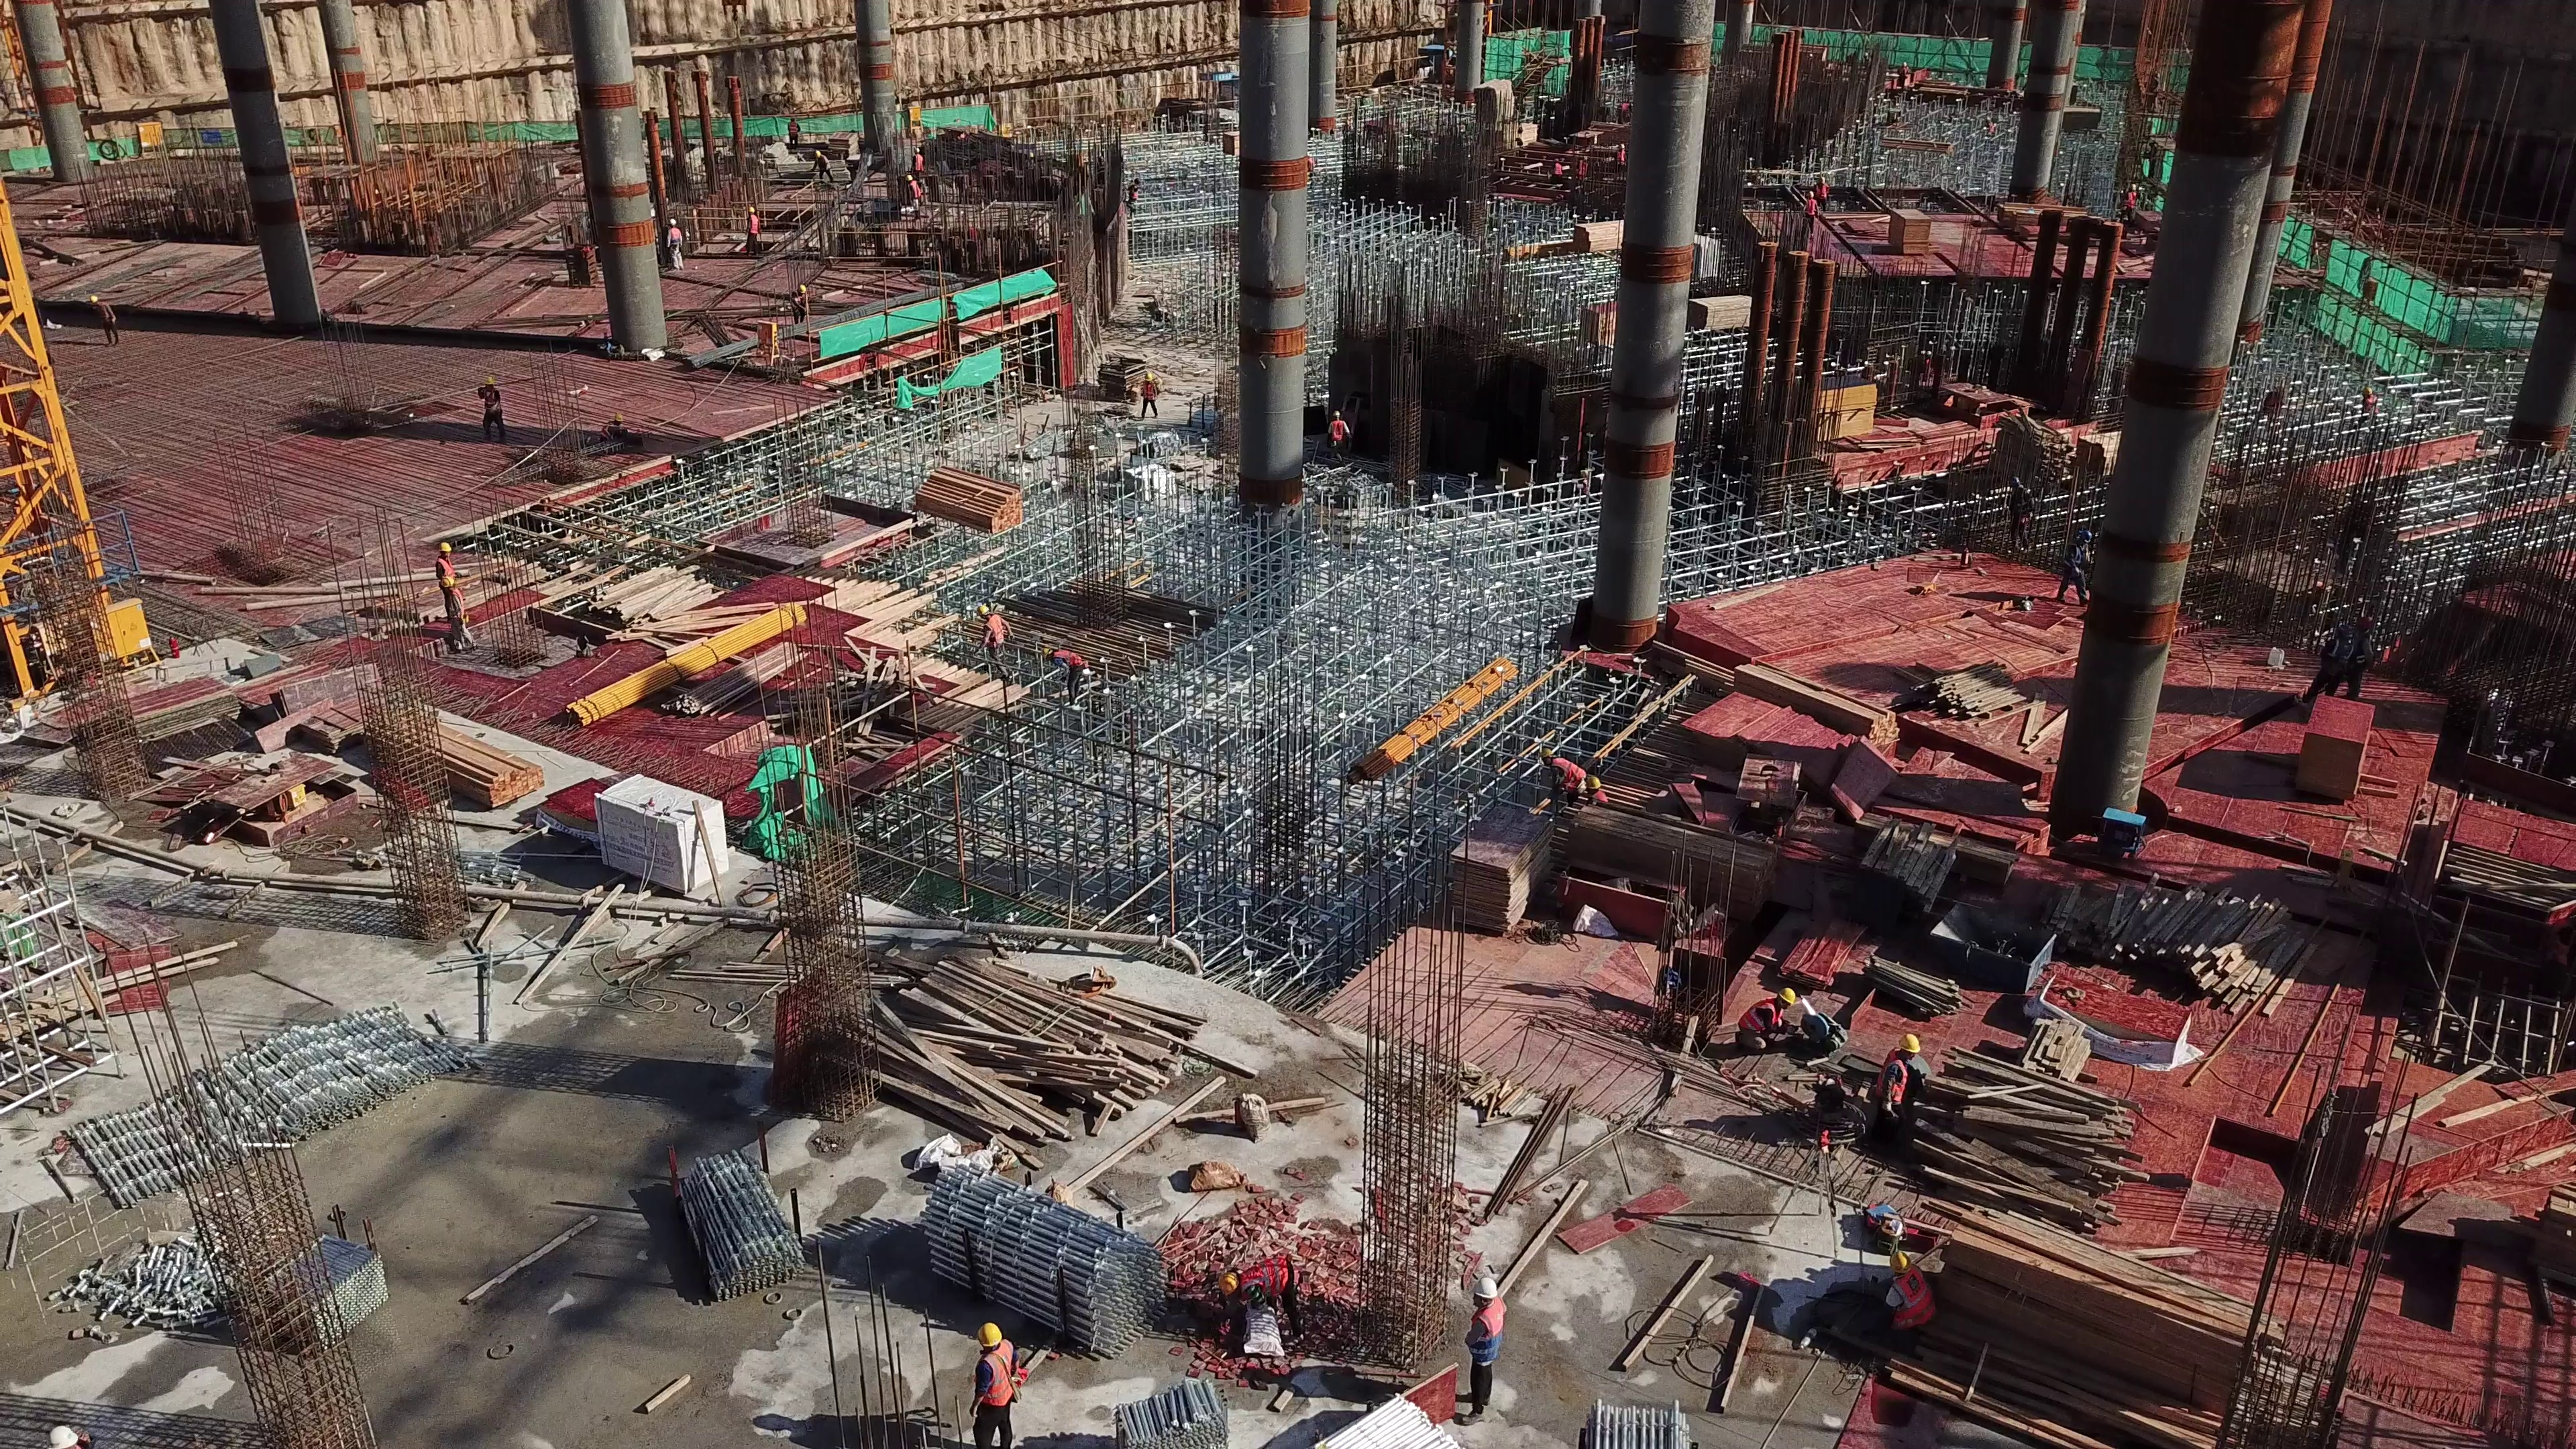board: (1458, 794, 1548, 943), (2287, 689, 2369, 810), (107, 665, 233, 735), (1579, 294, 1616, 354), (1892, 208, 1927, 262)
cutter: (1796, 1006, 1845, 1053)
ebox: (86, 592, 184, 665), (2092, 805, 2147, 868), (754, 320, 781, 365)
helmet: (1215, 1272, 1242, 1302), (979, 1324, 1007, 1350), (1468, 1277, 1500, 1301), (1888, 1249, 1912, 1275), (1896, 1036, 1922, 1059), (973, 600, 994, 619), (1582, 775, 1603, 792), (1778, 989, 1797, 1007), (441, 540, 453, 554)
person: (1214, 1258, 1305, 1353), (965, 1320, 1023, 1449), (1461, 1279, 1501, 1428), (1731, 985, 1800, 1067), (1881, 1248, 1933, 1344), (1870, 1032, 1919, 1132), (436, 578, 475, 653), (2307, 624, 2344, 698), (2057, 531, 2093, 609), (1045, 643, 1085, 709), (977, 598, 1006, 676), (1543, 753, 1582, 803), (2008, 478, 2035, 553), (2352, 619, 2373, 701), (474, 379, 503, 437), (431, 543, 455, 612), (1135, 370, 1163, 423), (1326, 407, 1349, 463), (664, 218, 686, 270), (1584, 775, 1610, 811), (786, 289, 810, 324), (743, 205, 759, 254), (1801, 192, 1817, 237), (808, 150, 830, 183), (2359, 388, 2377, 423), (2121, 183, 2139, 221), (902, 174, 918, 215), (1813, 174, 1829, 209), (1126, 178, 1140, 211), (915, 144, 926, 179), (787, 117, 800, 145)
scaffold: (38, 994, 484, 1194), (917, 1159, 1156, 1359), (38, 1230, 413, 1342), (667, 1149, 805, 1304), (1110, 1369, 1230, 1449)
vest: (1466, 1305, 1514, 1364), (1891, 1276, 1943, 1330), (1238, 1260, 1309, 1298), (977, 1346, 1022, 1405), (1733, 1000, 1791, 1038), (1873, 1059, 1913, 1110), (1550, 759, 1593, 790)
wood: (1957, 1226, 2281, 1449), (867, 969, 1197, 1138), (1937, 1065, 2177, 1209), (2056, 883, 2312, 1012), (1582, 809, 1788, 908), (383, 711, 545, 810), (588, 557, 743, 646), (1922, 668, 2061, 760), (1854, 827, 1971, 916), (906, 467, 1014, 533), (1988, 201, 2080, 234), (2078, 429, 2117, 479), (1565, 220, 1621, 252)
